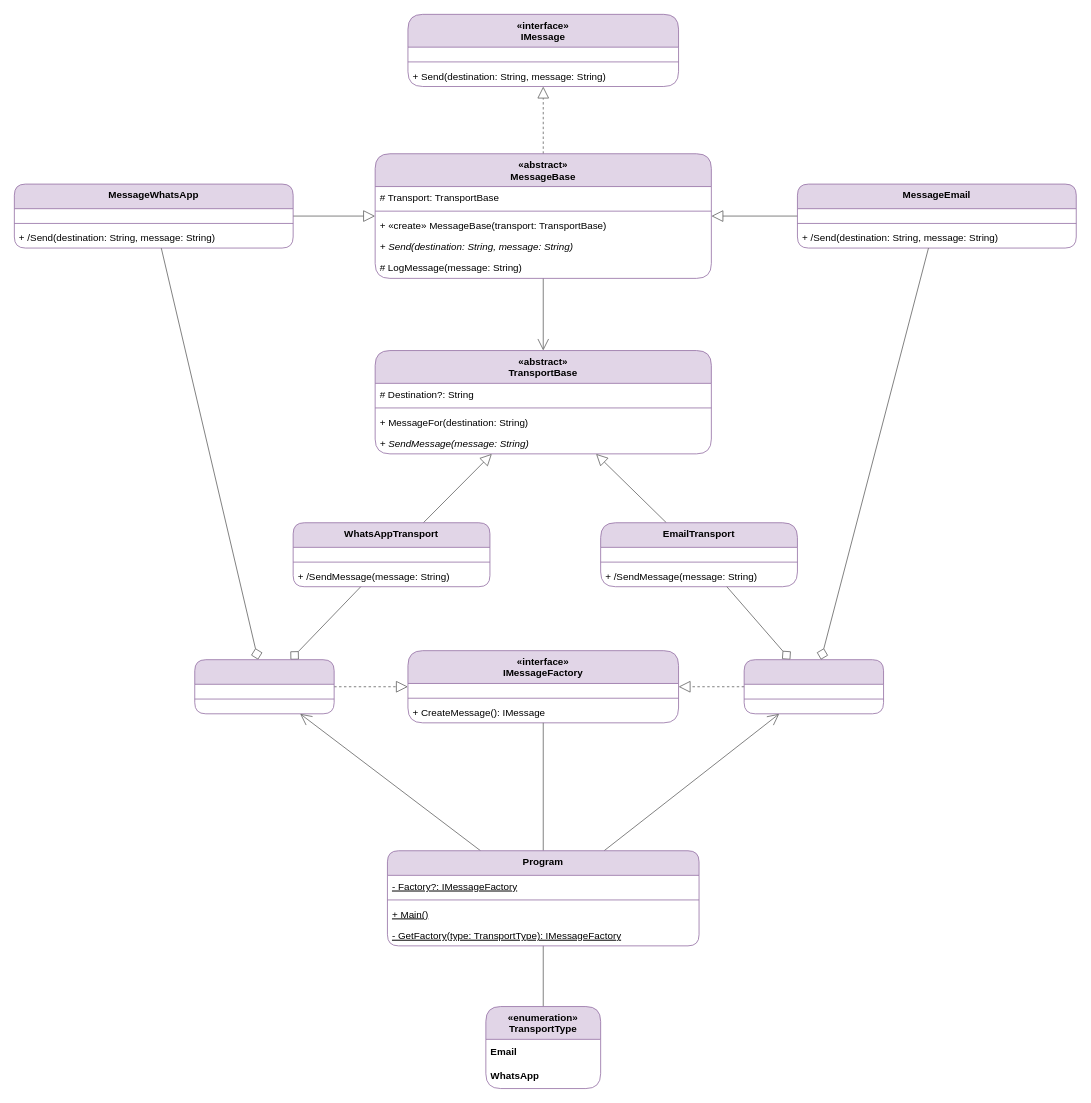
The diagram is 1091 pixels wide and 1103 high, and some of its shapes have lost their labels. Each missing label, with the centre of its shape:
"EmailFactory" belongs at point 813,686.
"WhatsAppFactory" belongs at point 264,686.
